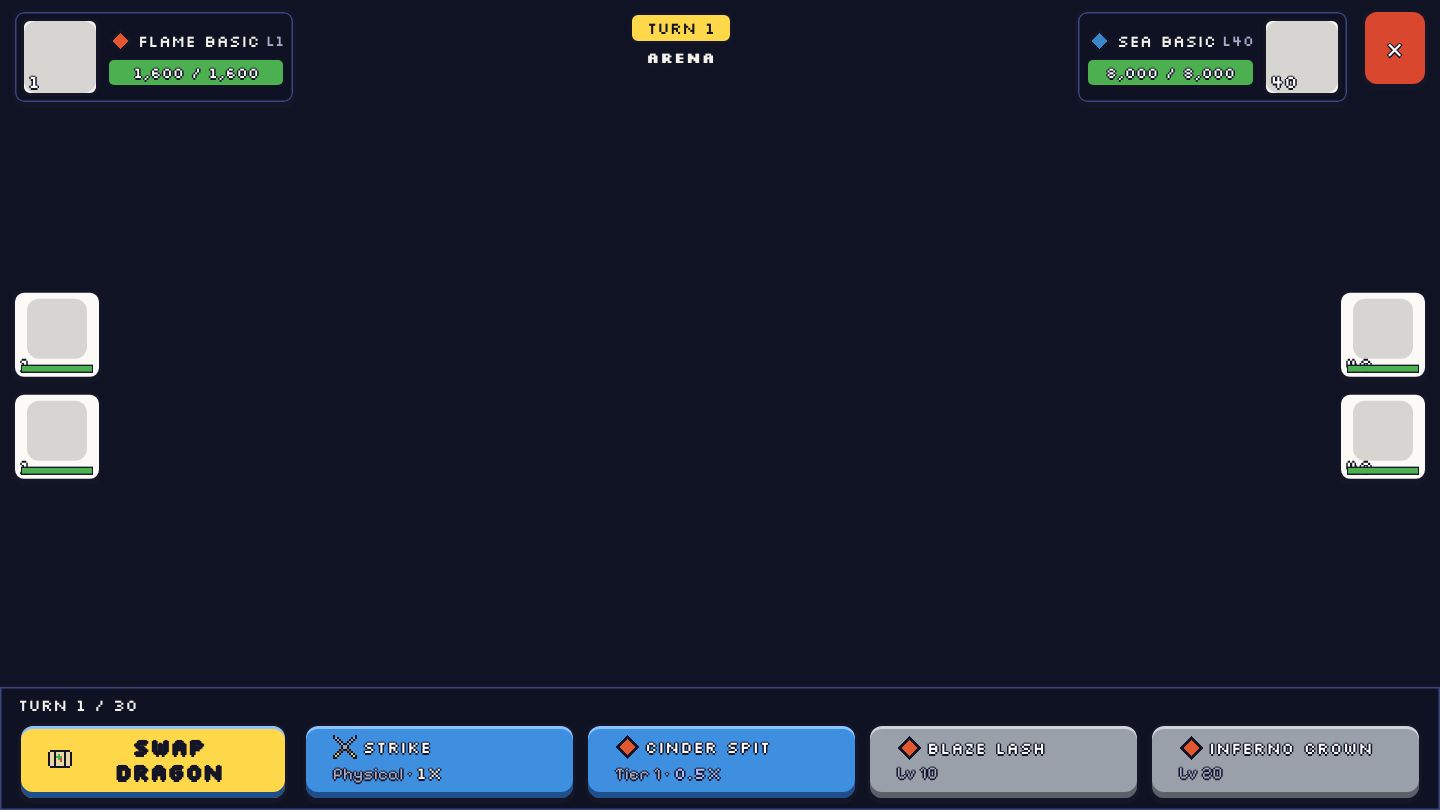
Test: BattlePanel › reduced motion jumps to the result with no delay
Click the button "Strike Physical · 1x" at (440, 762), box [303,723,576,801]
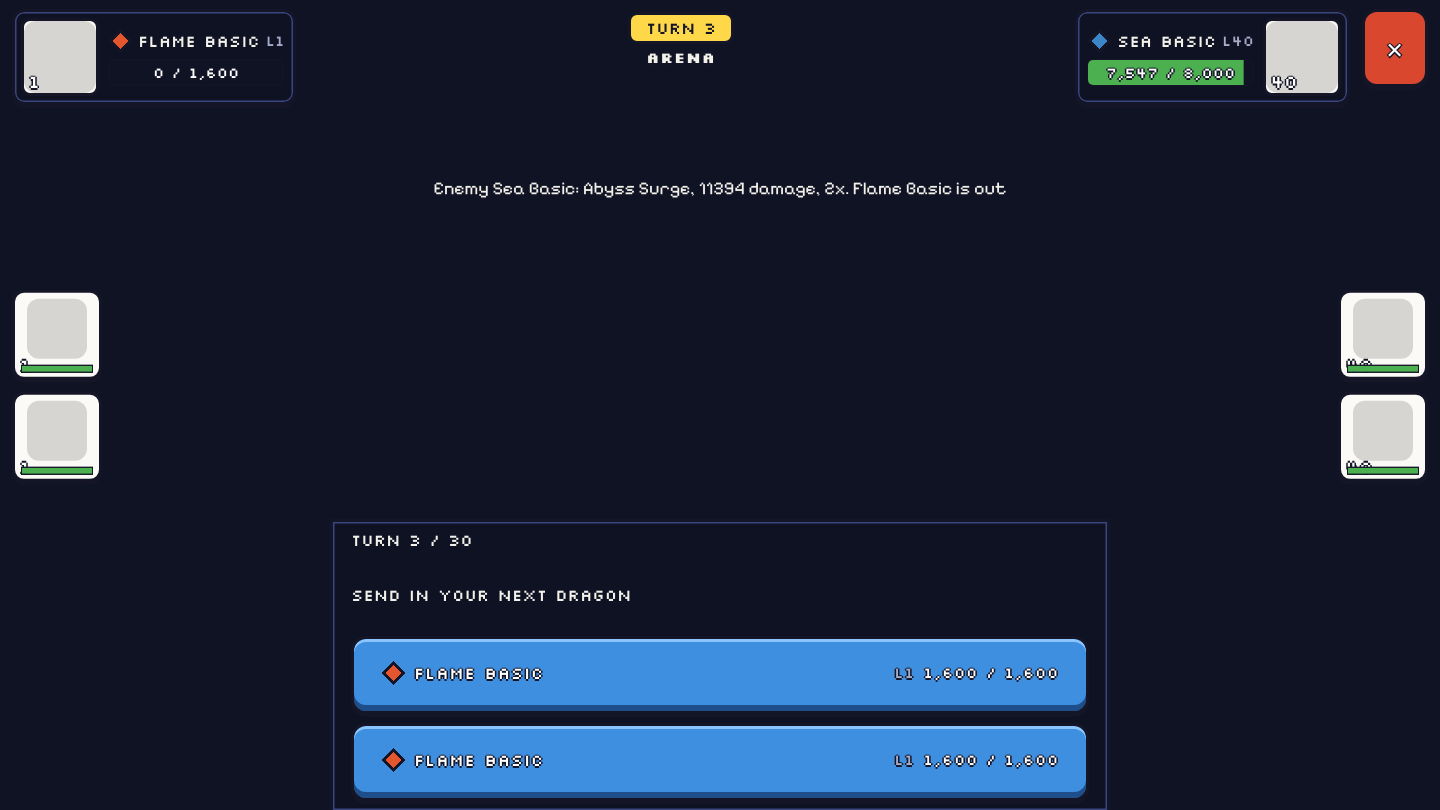
Check: the text "0 / 1,600" is shown, box [153,62,239,82]
Check: the element named "replacement" is shown, box [351,561,1089,801]
